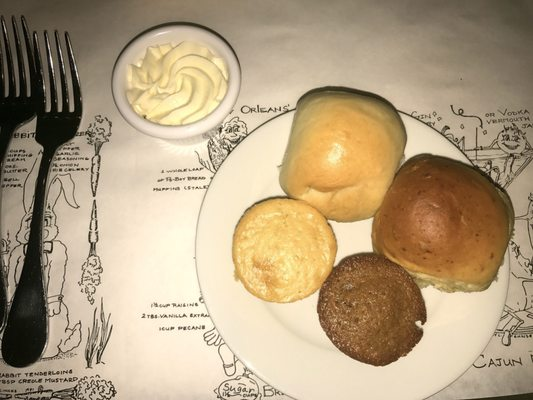sandwich: (2, 32, 84, 366)
sushi: (111, 22, 243, 143)
